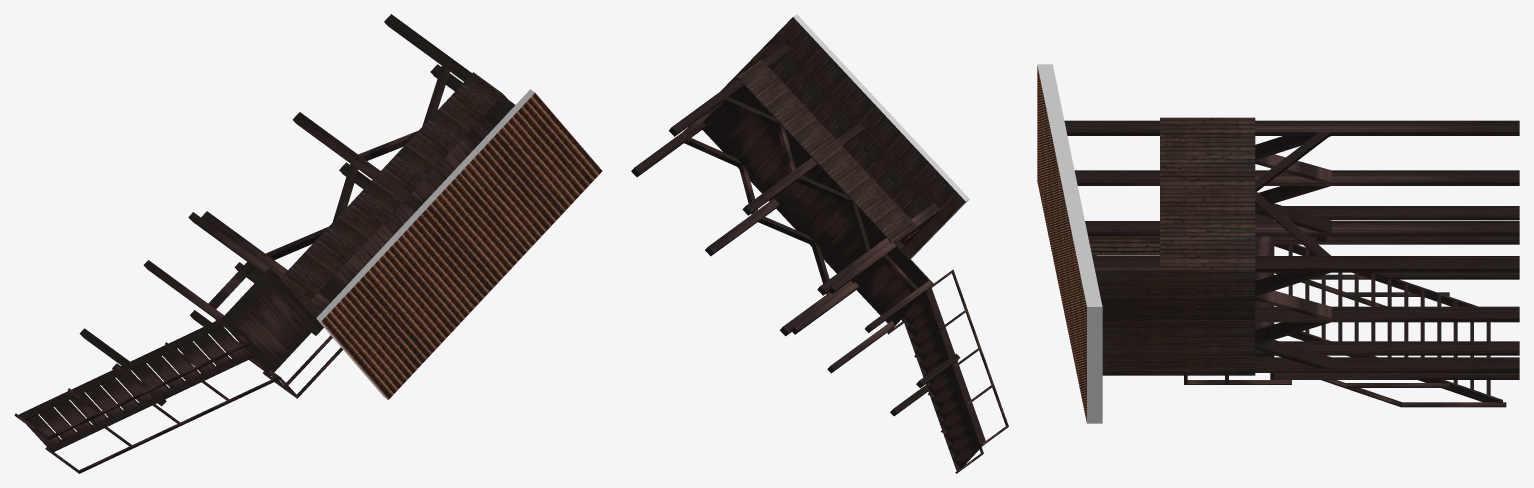
The model's file is Lai_23a_3.obj.
The picture shows the model from 3 angles, left to right: view 1: azimuth 30°, elevation 25°; view 2: azimuth 150°, elevation 25°; view 3: azimuth 270°, elevation 25°; orthographic projection. The views are drawn at different scales.
Visible parts, largest first — view 1: Lai_23a_3; view 2: Lai_23a_3; view 3: Lai_23a_3.
Boxes of the visible parts, <box> form: Lai_23a_3: <box>14,14,602,473</box>; Lai_23a_3: <box>631,14,1008,473</box>; Lai_23a_3: <box>1037,64,1519,423</box>.
Bounding box in the file's own units: 10.75 × 8.52 × 6.07.
